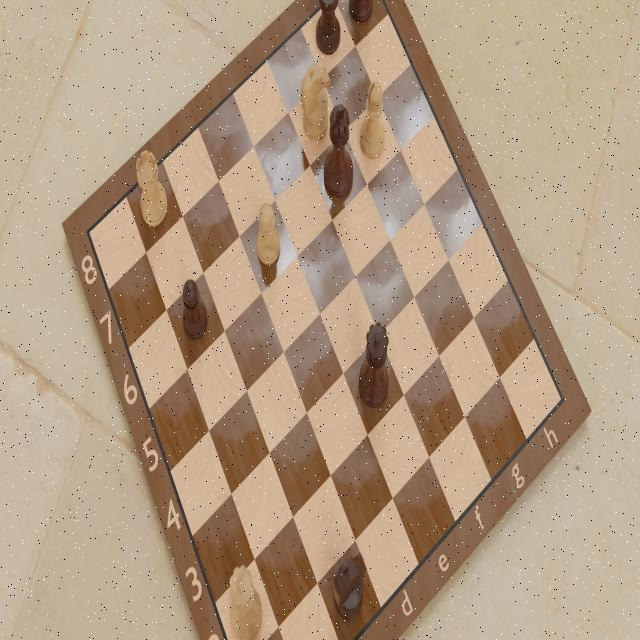black-king: (321, 101, 354, 200)
black-knight: (332, 550, 368, 622)
black-pawn: (182, 278, 210, 342)
black-queen: (357, 320, 390, 412)
black-rook: (314, 0, 342, 55)
white-bishop: (358, 79, 386, 161)
white-knight: (298, 62, 332, 141)
white-pawn: (255, 200, 281, 268)
white-queen: (227, 563, 263, 640)
white-rook: (135, 147, 169, 229)
